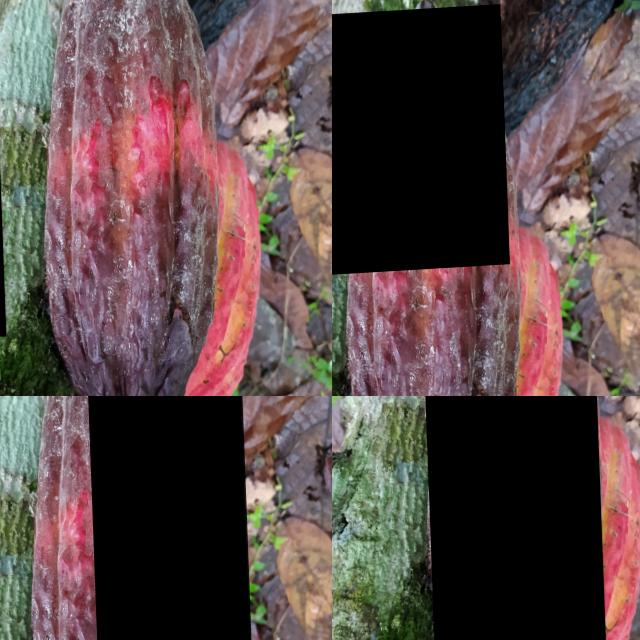Fitoftora: (418, 396, 603, 640), (87, 396, 253, 640)
Monilia: (332, 9, 507, 286)
Sana: (527, 416, 640, 640)
